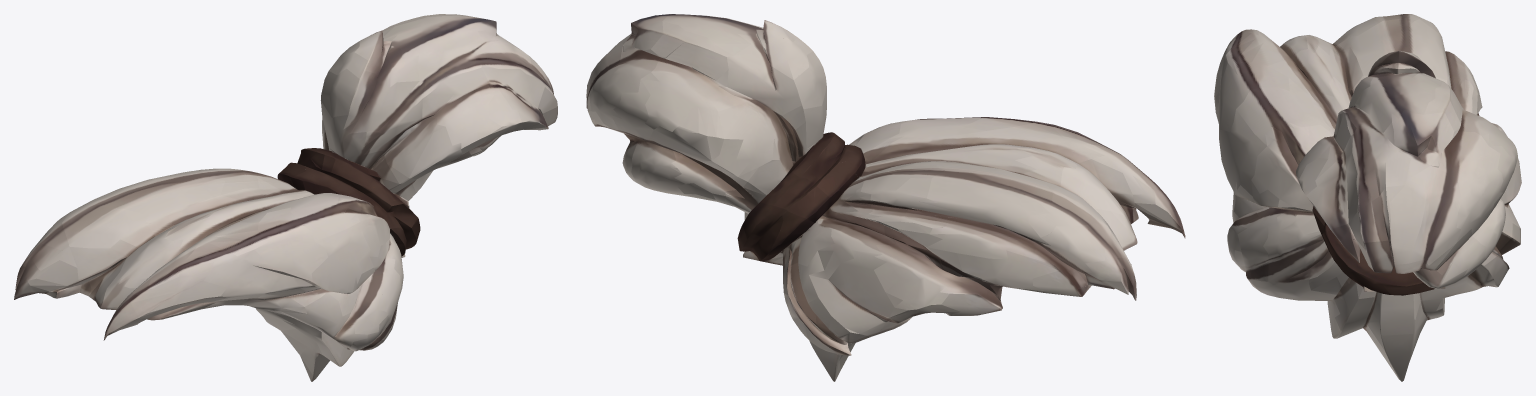
File: thalor_f-chignon-femme-queue-haute.glb
3 views of the same model, side by side, from view 1: azimuth 30°, elevation 25°; view 2: azimuth 150°, elevation 25°; view 3: azimuth 270°, elevation 25° (orthographic). The views are drawn at different scales.
Parts seen in each view (by area): view 1: geometry_0; view 2: geometry_0; view 3: geometry_0.
Boxes of the visible parts, x1=… form: geometry_0: x1=14, y1=14, x2=557, y2=381; geometry_0: x1=586, y1=14, x2=1185, y2=381; geometry_0: x1=1214, y1=14, x2=1521, y2=381.
Bounding box in the file's own units: 1.9 × 1.14 × 0.8624.
1 material, 1 textured.
